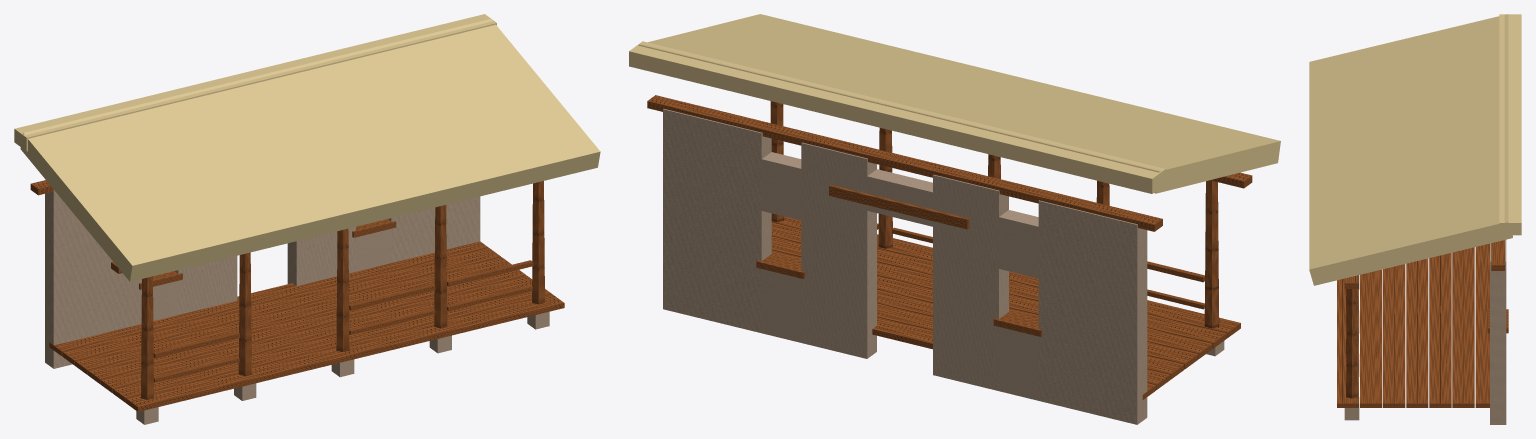
The model's file is safari-camp-and-bush-lodge-lodge-main-building-front-e8f9369b__37676.glb.
The picture shows the model from 3 angles, left to right: view 1: azimuth 30°, elevation 25°; view 2: azimuth 150°, elevation 25°; view 3: azimuth 270°, elevation 25°; orthographic projection. The views are drawn at different scales.
Parts seen in each view (by area): view 1: lodge-main-building-front-thatch, lodge-main-building-front-timber, lodge-main-building-front-earth; view 2: lodge-main-building-front-earth, lodge-main-building-front-thatch, lodge-main-building-front-timber; view 3: lodge-main-building-front-thatch, lodge-main-building-front-timber, lodge-main-building-front-earth.
Boxes of the visible parts, x1,y1,x2,y2 form: lodge-main-building-front-thatch: (14, 14, 600, 281); lodge-main-building-front-timber: (30, 180, 564, 411); lodge-main-building-front-earth: (45, 189, 549, 424); lodge-main-building-front-earth: (663, 108, 1224, 424); lodge-main-building-front-thatch: (629, 14, 1280, 193); lodge-main-building-front-timber: (647, 95, 1252, 399); lodge-main-building-front-thatch: (1309, 14, 1521, 285); lodge-main-building-front-timber: (1337, 240, 1508, 407); lodge-main-building-front-earth: (1344, 239, 1506, 424).
Bounding box in the file's own units: 7.94 × 3.77 × 3.42.
Materials: 3 (2 with a texture image).
